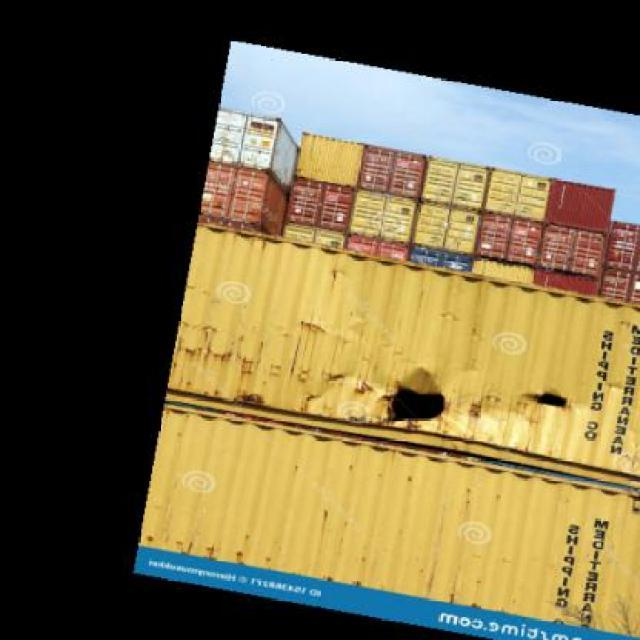hole: (495, 373, 595, 426), (374, 372, 457, 429)
